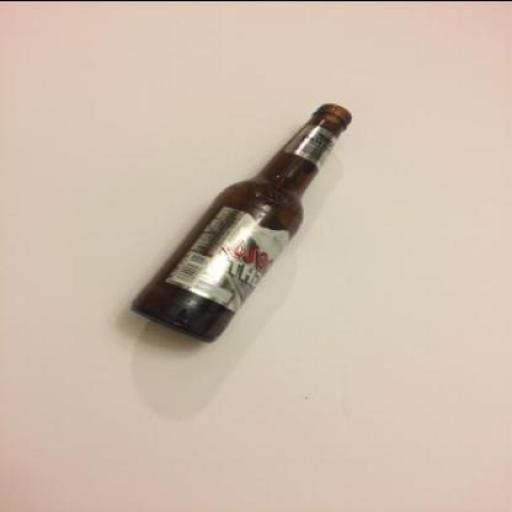glass: (129, 102, 350, 340)
